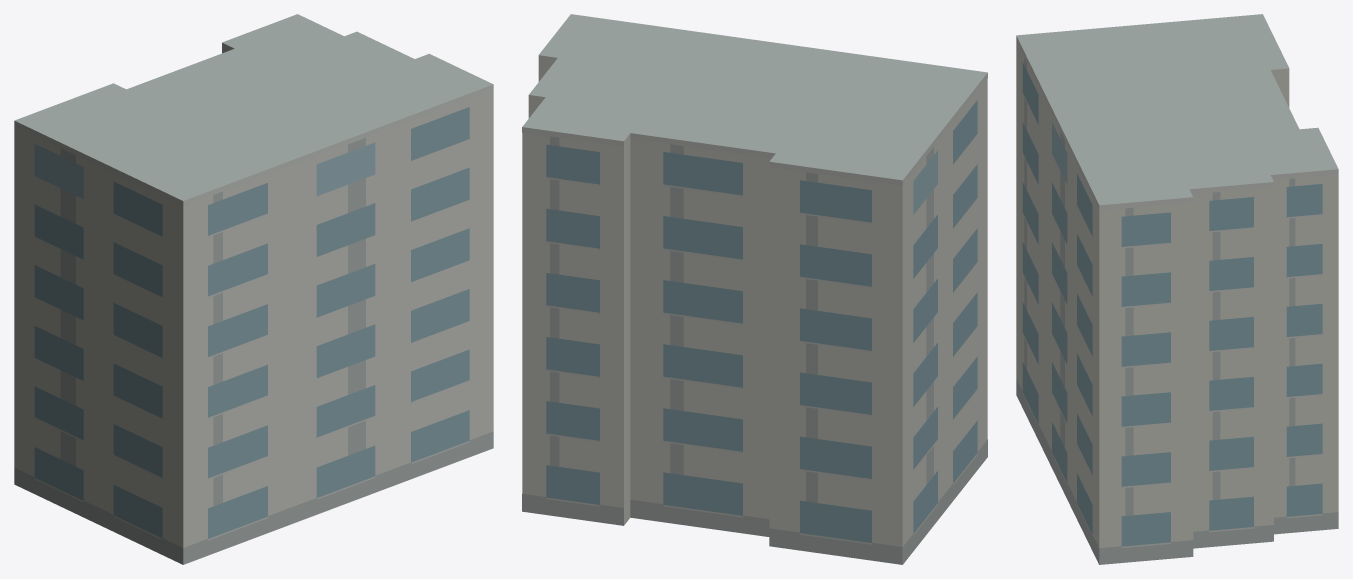
Rendered from survey-upis-32629342.glb.
3 renders of one model, left to right at view 1: azimuth 30°, elevation 25°; view 2: azimuth 150°, elevation 25°; view 3: azimuth 270°, elevation 25°, orthographic. The views are drawn at different scales.
Parts seen in each view (by area): view 1: survey-upis-32629342.tmp; view 2: survey-upis-32629342.tmp; view 3: survey-upis-32629342.tmp.
Boxes of the visible parts, x1,y1,x2,y2 form: survey-upis-32629342.tmp: (14, 14, 493, 564); survey-upis-32629342.tmp: (522, 14, 987, 564); survey-upis-32629342.tmp: (1016, 14, 1338, 564).
Size of the model in its own units: 18.95 by 16.6 by 13.5.
